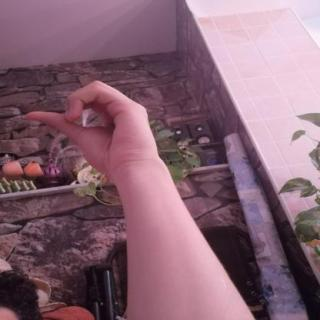WAW: (16, 73, 169, 183)
